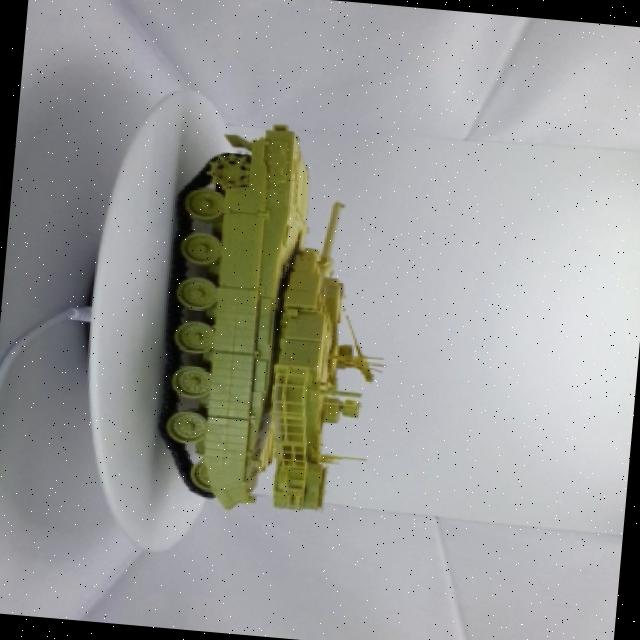korea tank: (125, 95, 414, 541)
